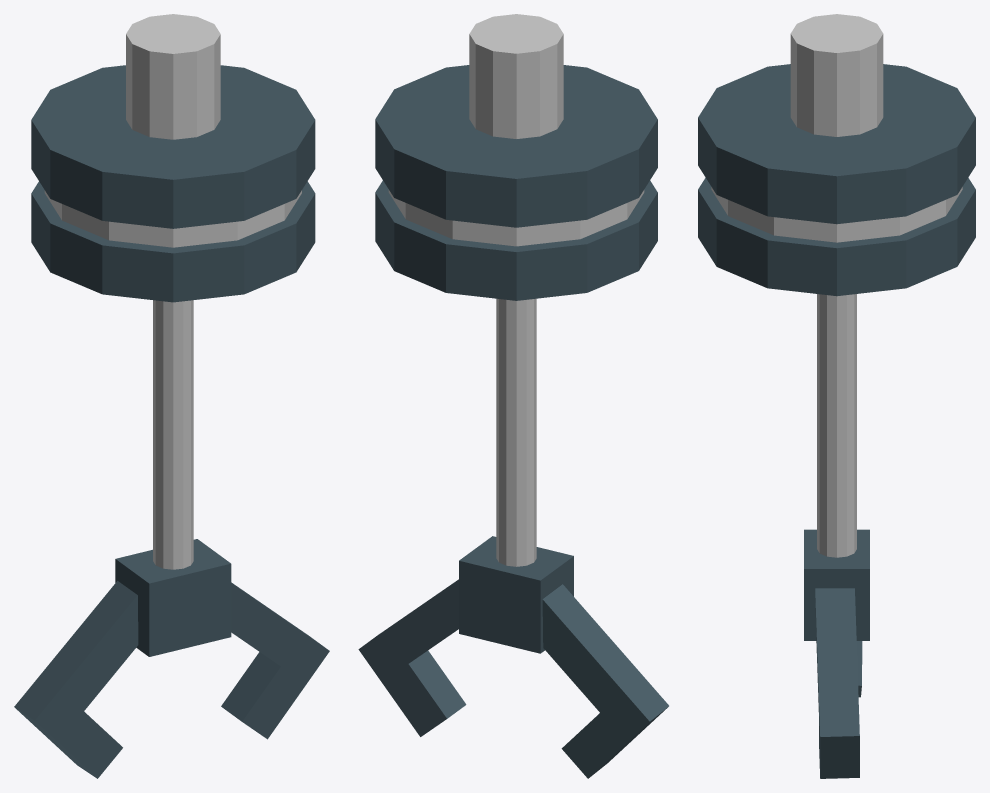
The model's file is HoverbotBase.obj.
3 renders of one model, left to right at view 1: azimuth 30°, elevation 25°; view 2: azimuth 150°, elevation 25°; view 3: azimuth 270°, elevation 25°, orthographic. The views are drawn at different scales.
Visible parts, largest first — view 1: group480575349, group1542362950, group162864552, group801459019, group1828411905, group484994337, group1802001890, group505457956; view 2: group480575349, group1542362950, group162864552, group801459019, group1828411905, group484994337, group1802001890, group505457956; view 3: group480575349, group1542362950, group801459019, group1828411905, group1802001890, group484994337, group505457956.
Part boxes in pixels (x1,y1,x2,y2): group480575349: (31,65,315,228); group1542362950: (31,181,315,302); group162864552: (14,581,138,778); group801459019: (126,14,220,139); group1828411905: (153,300,193,569); group484994337: (115,539,231,656); group1802001890: (221,582,329,739); group505457956: (44,190,301,247); group480575349: (375,65,657,227); group1542362950: (375,180,657,300); group162864552: (542,584,668,778); group801459019: (469,14,563,138); group1828411905: (496,298,536,566); group484994337: (459,536,573,653); group1802001890: (358,579,466,736); group505457956: (388,189,644,246); group480575349: (698,64,975,224); group1542362950: (698,178,975,296); group801459019: (790,14,883,136); group1828411905: (817,294,856,557); group1802001890: (815,588,859,778); group484994337: (804,529,869,640); group505457956: (711,187,962,242).
Size of the model in its own units: 0.2516 by 0.5873 by 0.21.
